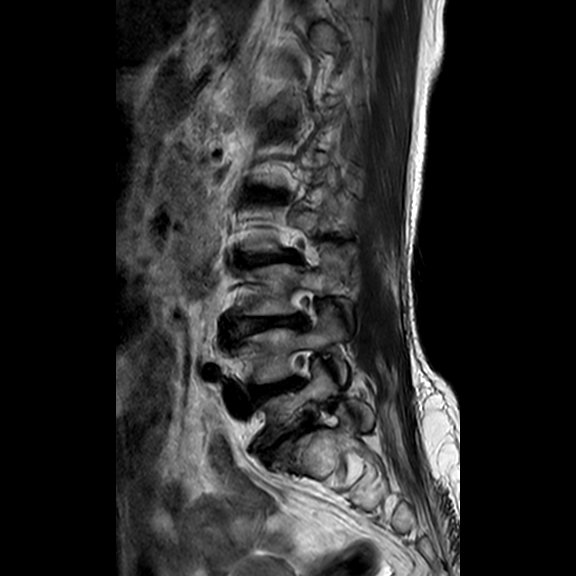LFS0: (277, 277, 326, 339), (276, 342, 325, 404)
